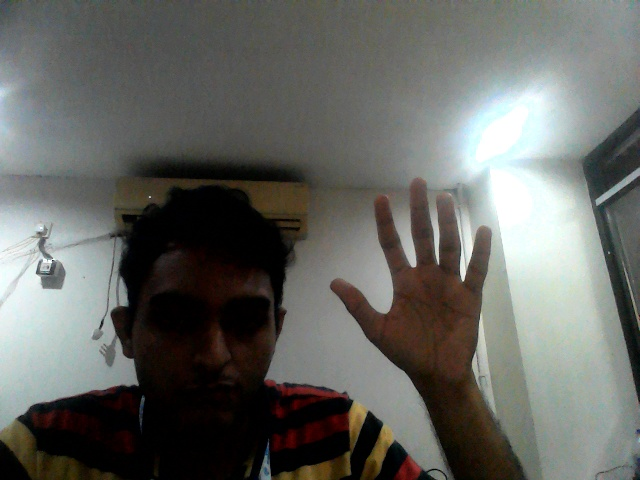palm: (325, 172, 504, 385)
